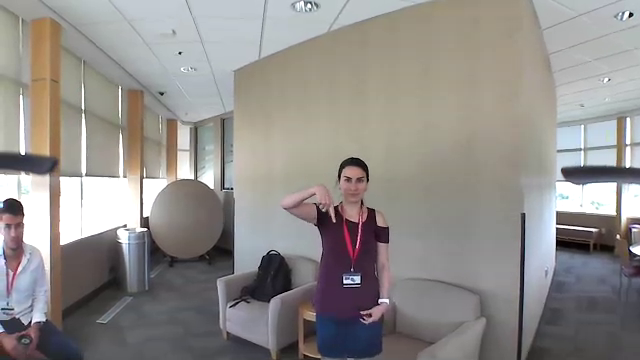down: (306, 178, 338, 231)
